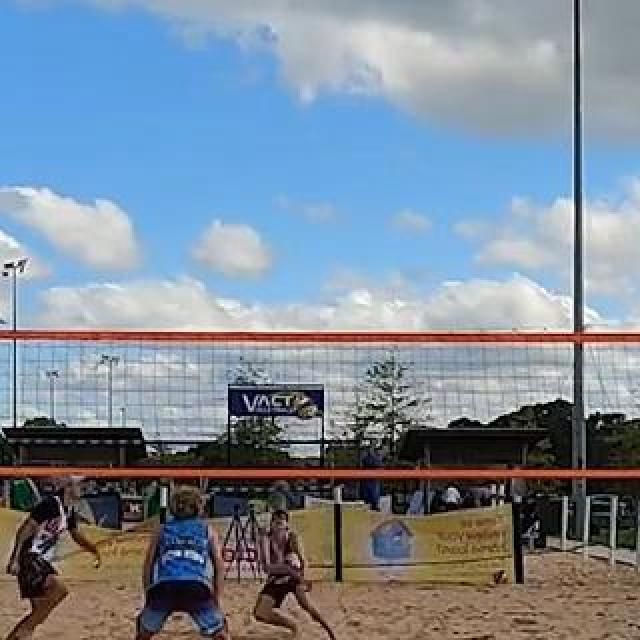volleyball: (296, 398, 318, 418), (494, 570, 510, 586)
